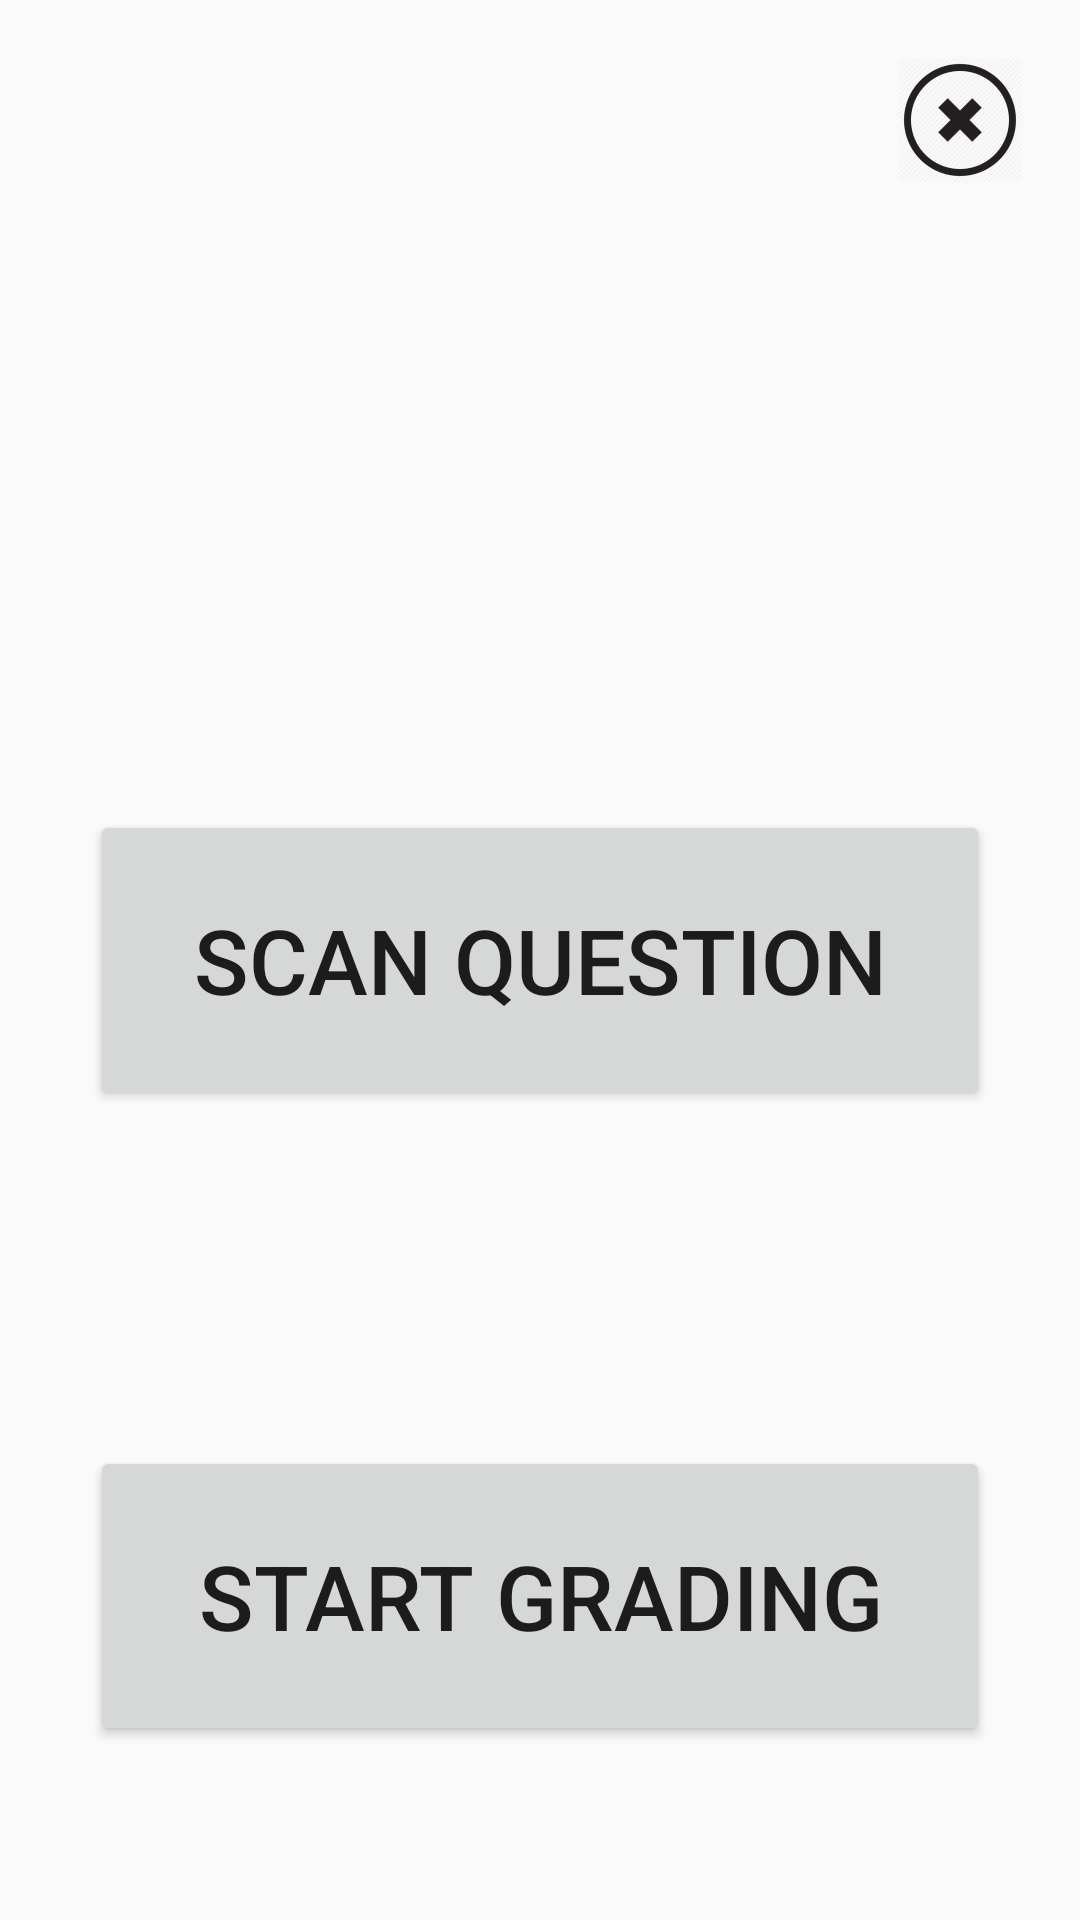

Where icons sit on this 1080 x 1920 app screen, as (x1, y1, x2, y2):
cancel: (904, 64, 1016, 176)
